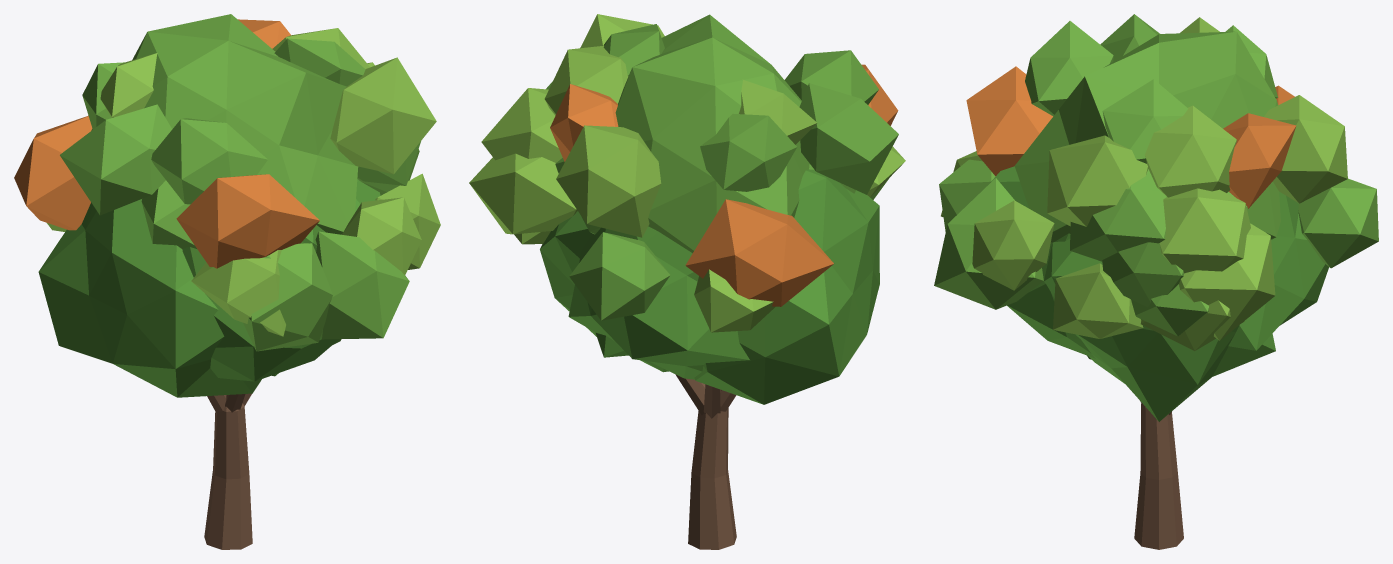
The model's file is TREE_02.obj.
3 views of the same model, side by side, from view 1: azimuth 30°, elevation 25°; view 2: azimuth 150°, elevation 25°; view 3: azimuth 270°, elevation 25° (orthographic).
Parts seen in each view (by area): view 1: leaf_clusters, foliage, trunk, branches; view 2: leaf_clusters, foliage, trunk, branches; view 3: leaf_clusters, foliage, trunk.
Part boxes in pixels (x1,y1,x2,y2): leaf_clusters: (14,19,440,351); foliage: (38,14,380,397); trunk: (204,403,252,549); branches: (207,393,251,412); leaf_clusters: (469,14,905,332); foliage: (540,14,879,404); trunk: (688,408,736,549); branches: (675,374,736,418); leaf_clusters: (934,14,1378,350); foliage: (990,31,1328,421); trunk: (1134,403,1183,549).
Size of the model in its own units: 6.53 by 8.8 by 7.14.
